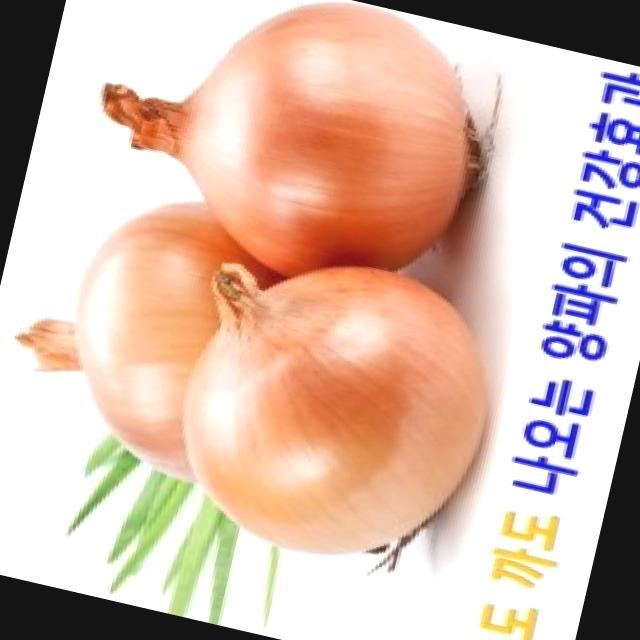orange: (150, 238, 540, 610), (97, 0, 556, 305), (0, 168, 289, 489)
